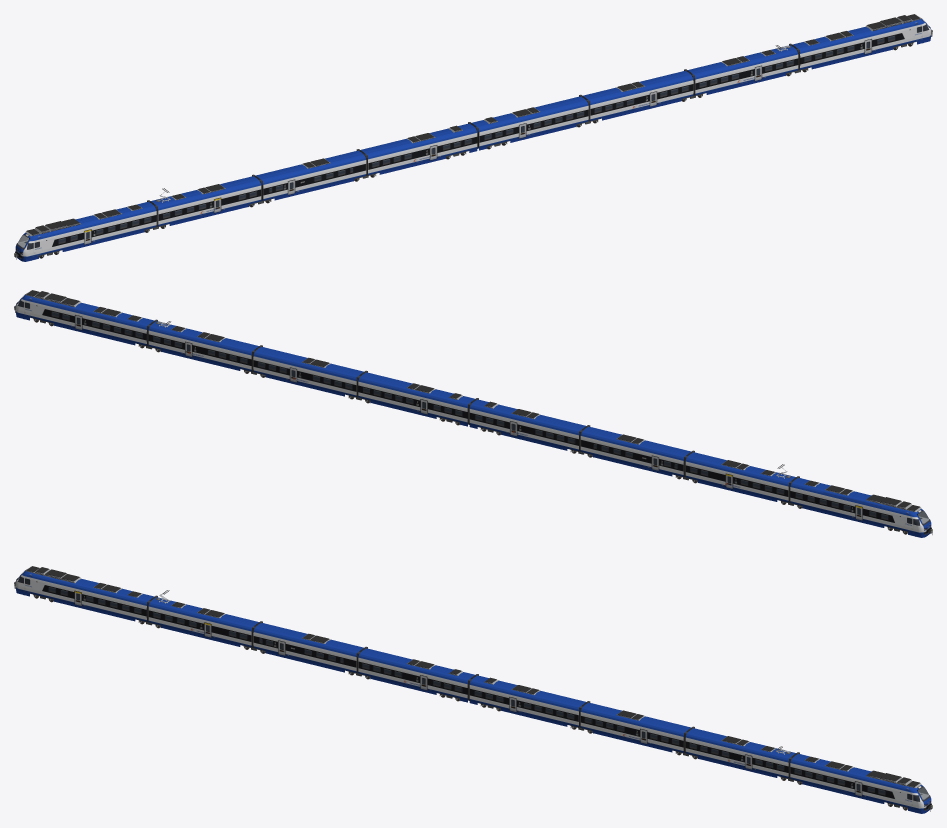
The model's file is FLI_przed_szyby.glb.
3 renders of one model, top to bottom at view 1: azimuth 30°, elevation 25°; view 2: azimuth 150°, elevation 25°; view 3: azimuth 330°, elevation 25°, orthographic.
Visible parts, largest first — view 1: FL_czlon1, FL_czlon8, FL_czlon5, FL_czlon4, FL_czlon3, FL_czlon6, FL_czlon2, FL_czlon7, FL_fartuch, FL_ryfl, FL_guma, FL_dach (+1 smaller); view 2: FL_czlon1, FL_czlon8, FL_czlon5, FL_czlon4, FL_czlon3, FL_czlon6, FL_czlon2, FL_czlon7, FL_fartuch, FL_ryfl, FL_guma, FL_dach (+1 smaller); view 3: FL_czlon8, FL_czlon1, FL_czlon4, FL_czlon5, FL_czlon6, FL_czlon3, FL_czlon2, FL_czlon7, FL_fartuch, FL_ryfl, FL_guma, FL_dach (+1 smaller).
Part boxes in pixels (x1,y1,x2,y2): FL_czlon1: (15,202,156,258); FL_czlon8: (792,17,931,69); FL_czlon5: (472,96,588,147); FL_czlon4: (361,123,477,175); FL_czlon3: (255,150,366,200); FL_czlon6: (583,71,693,120); FL_czlon2: (151,176,261,226); FL_czlon7: (688,45,798,95); FL_fartuch: (17,37,930,261); FL_ryfl: (27,14,919,234); FL_guma: (15,34,932,259); FL_dach: (27,16,920,235); FL_czlon1: (790,478,931,534); FL_czlon8: (15,293,154,345); FL_czlon5: (358,372,474,423); FL_czlon4: (469,399,585,451); FL_czlon3: (580,426,691,476); FL_czlon6: (253,347,363,396); FL_czlon2: (685,452,795,502); FL_czlon7: (148,321,258,371); FL_fartuch: (16,313,929,537); FL_ryfl: (27,290,919,510); FL_guma: (51,311,932,534); FL_dach: (26,292,919,511); FL_czlon8: (790,754,931,810); FL_czlon1: (15,569,154,621); FL_czlon4: (358,648,474,699); FL_czlon5: (469,675,585,727); FL_czlon6: (580,702,691,752); FL_czlon3: (253,623,363,672); FL_czlon2: (148,597,258,647); FL_czlon7: (685,728,795,778); FL_fartuch: (16,589,929,813); FL_ryfl: (27,566,919,786); FL_guma: (14,586,931,811); FL_dach: (26,568,919,787).
Size of the model in its own units: 153 by 5.6 by 2.95.
Materials: 34 (10 with a texture image).
